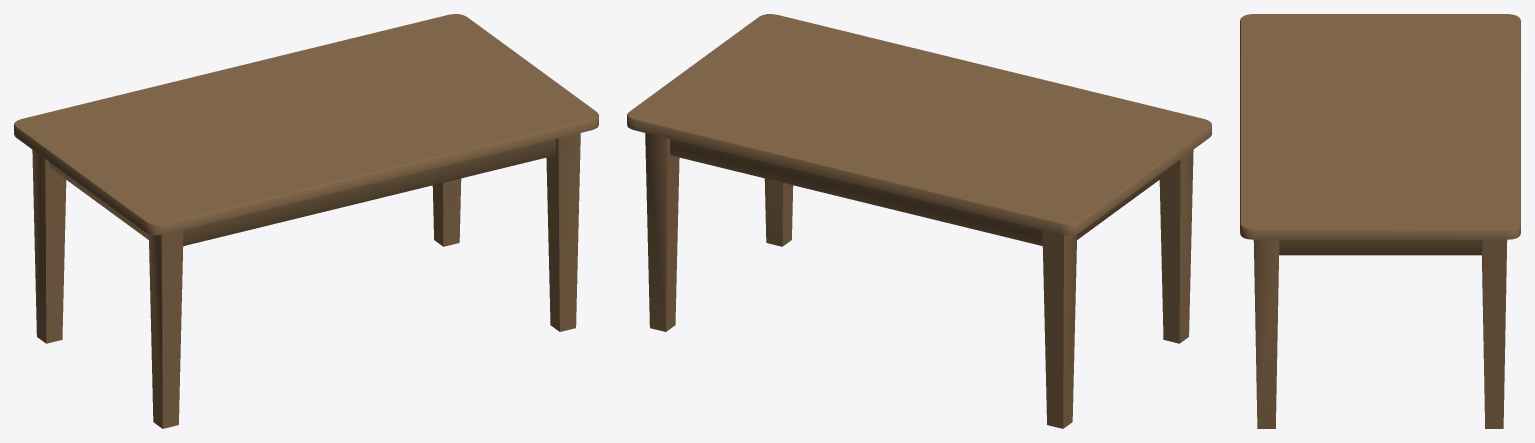
The model's file is mesa2.fbx.
3 views of the same model, side by side, from view 1: azimuth 30°, elevation 25°; view 2: azimuth 150°, elevation 25°; view 3: azimuth 270°, elevation 25° (orthographic). The views are drawn at different scales.
Parts seen in each view (by area): view 1: Mesa2; view 2: Mesa2; view 3: Mesa2.
Boxes of the visible parts, x1=… form: Mesa2: x1=14, y1=14, x2=598, y2=428; Mesa2: x1=627, y1=14, x2=1211, y2=428; Mesa2: x1=1240, y1=14, x2=1520, y2=428.
Bounding box in the file's own units: 2101 × 949 × 1156.
